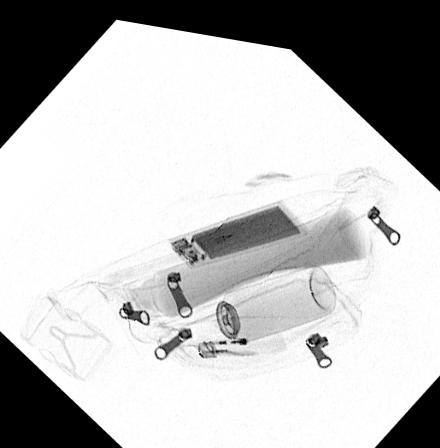Lighter: (197, 324, 285, 350)
Powerbank: (166, 189, 309, 263)
Sprayer: (193, 252, 337, 337)
